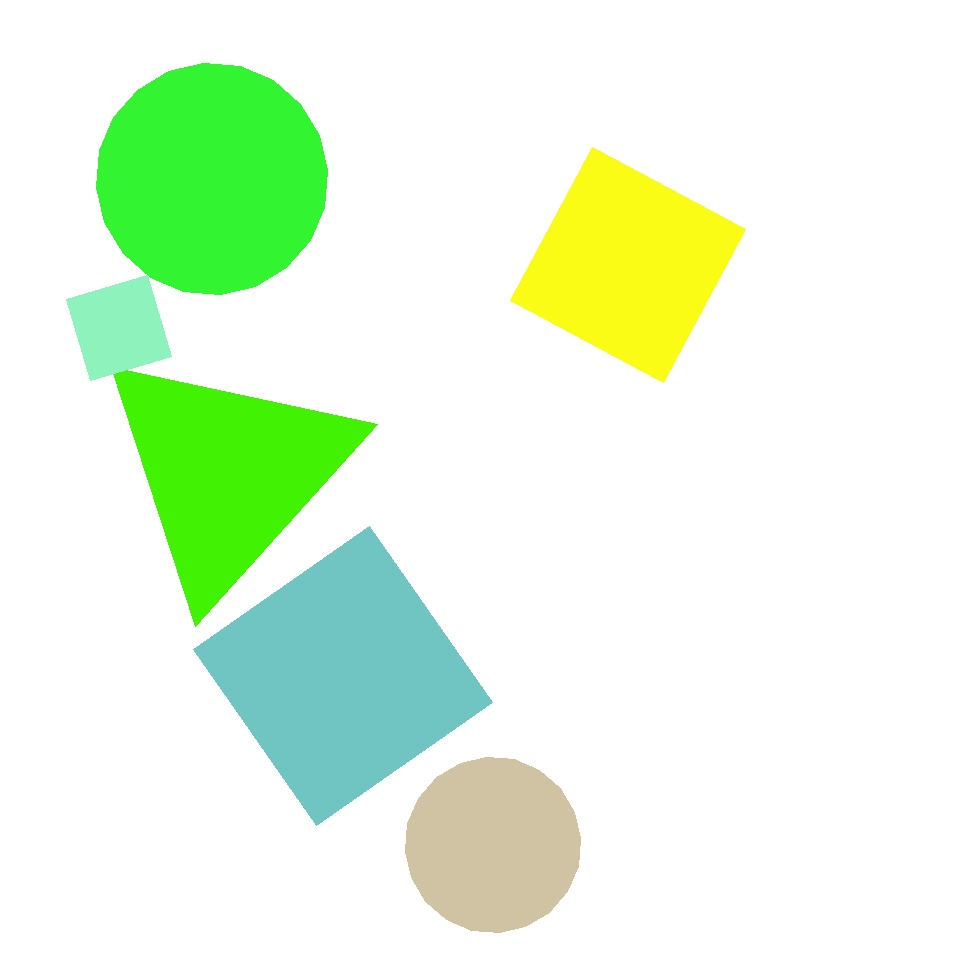circle: (95, 344, 361, 603), (268, 156, 462, 348)
square: (194, 526, 493, 826), (510, 494, 783, 766), (510, 148, 746, 382), (480, 476, 714, 710), (66, 276, 172, 380)
triangle: (96, 64, 328, 294), (406, 758, 580, 933)
